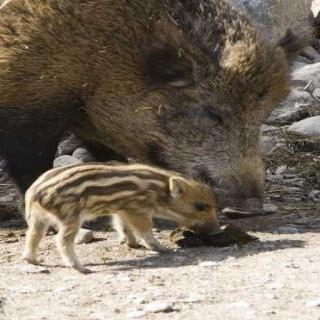Pig: (2, 4, 320, 248), (27, 132, 236, 270)
